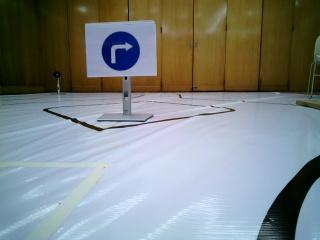right: (88, 27, 158, 78)
